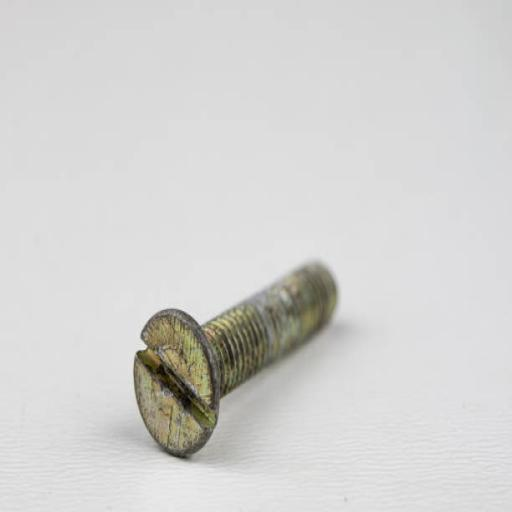Slotted: (133, 308, 219, 460)
